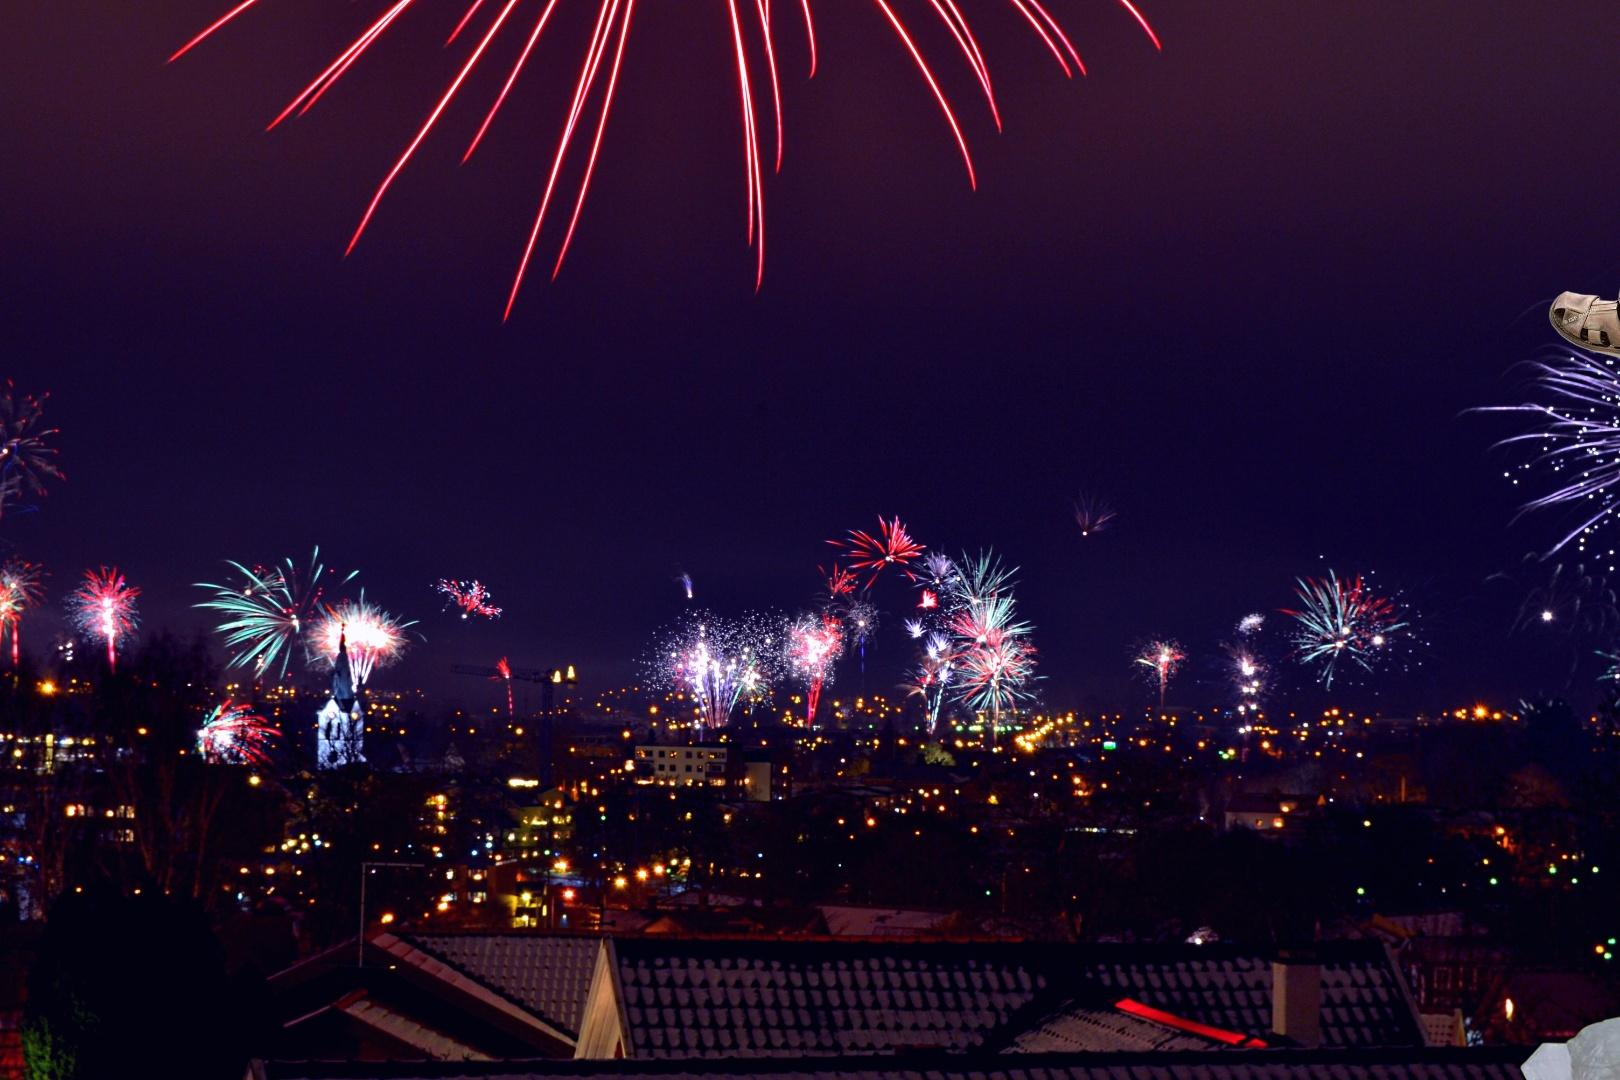plastic-bag: (1518, 1006, 1620, 1080)
shoes: (1546, 271, 1620, 372)
